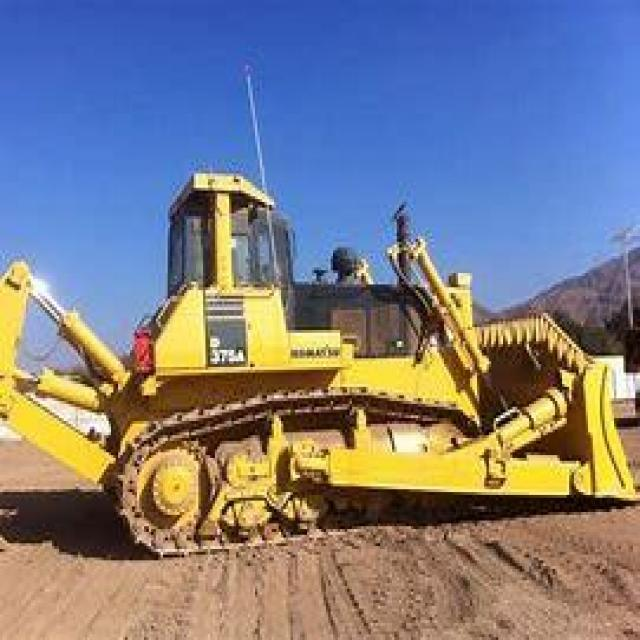Bulldozer: (2, 168, 638, 566)
